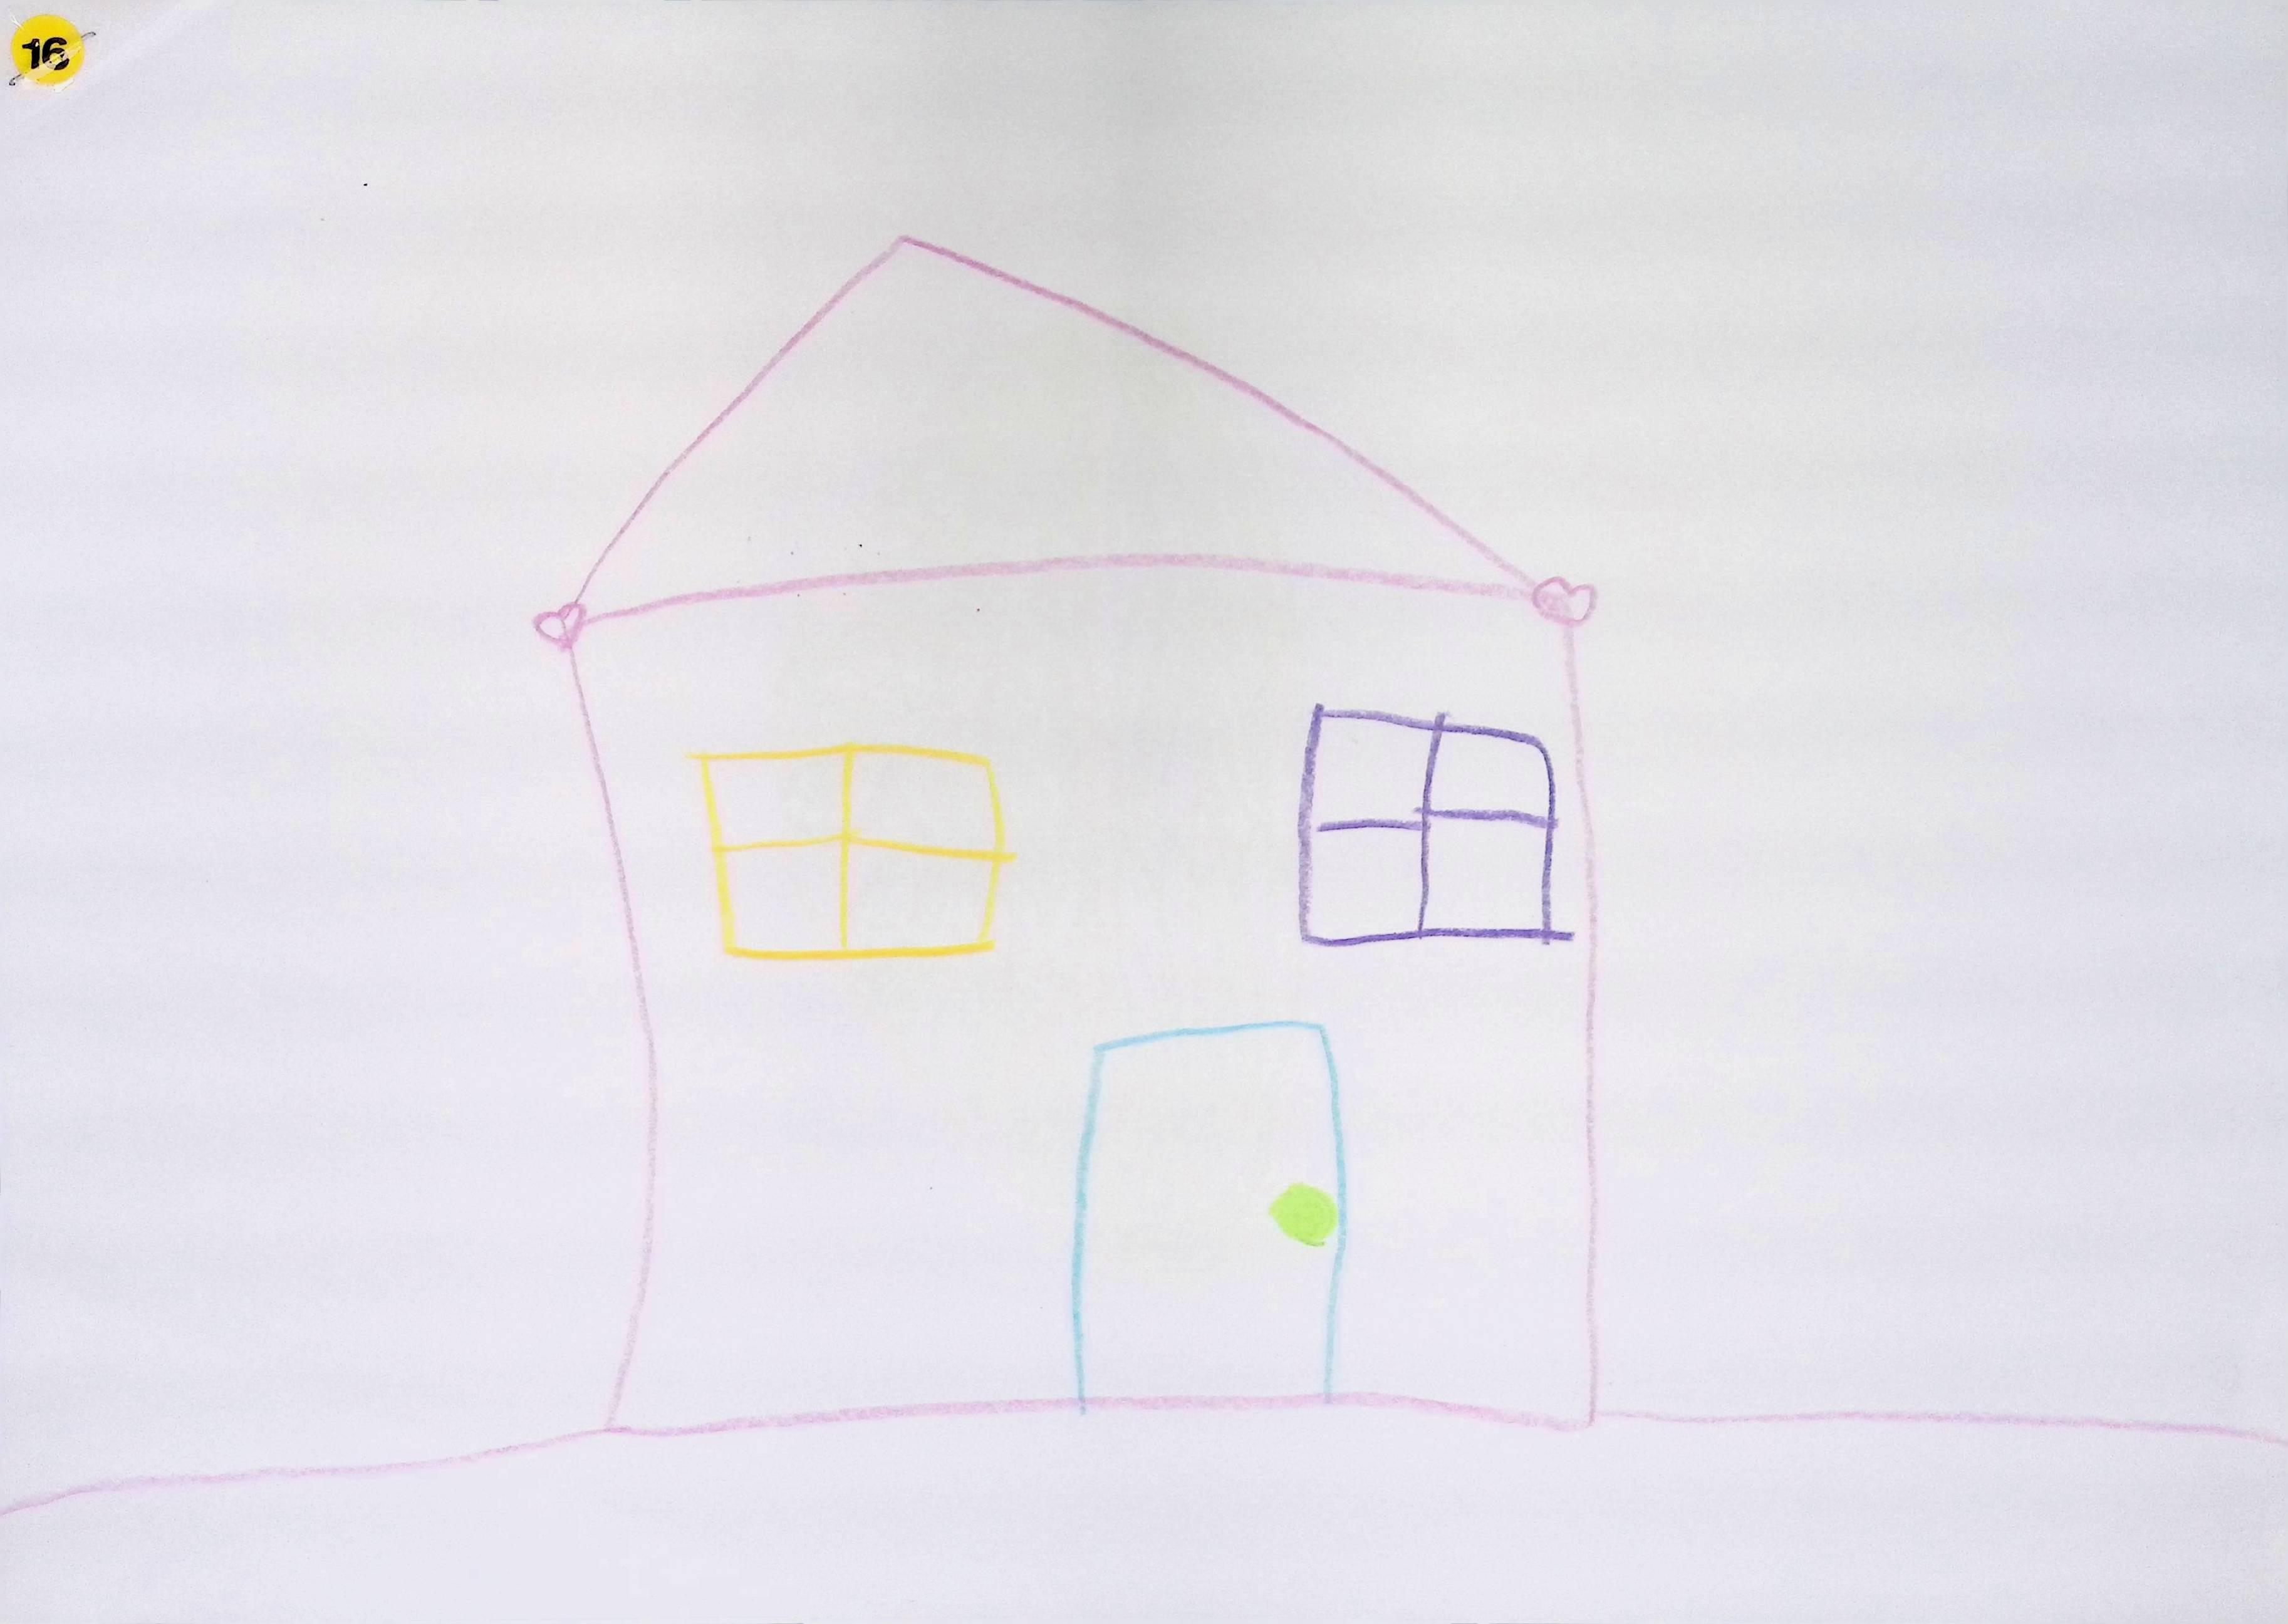door: (1077, 1023, 1343, 1399)
house: (538, 237, 1597, 1431)
roof: (555, 236, 1545, 624)
wall: (575, 555, 1599, 1438)
window: (691, 743, 1012, 958), (1300, 705, 1575, 946)
